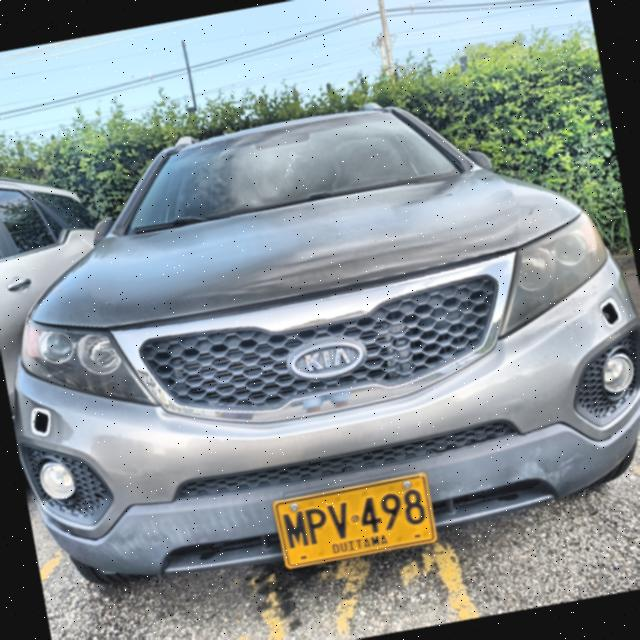4: (356, 494, 384, 535)
8: (400, 486, 428, 528)
9: (378, 489, 406, 532)
M: (281, 509, 310, 550)
P: (303, 504, 331, 546)
V: (324, 501, 353, 542)
